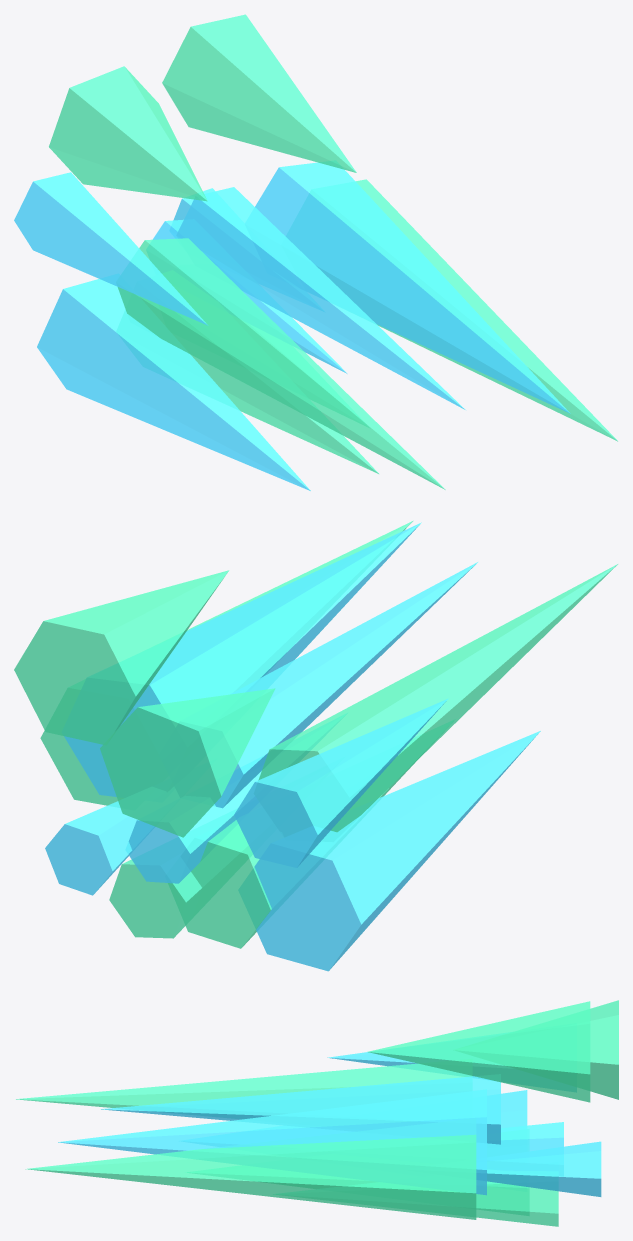
The model's file is 12_Broken_Crystal_Field.glb.
3 views of the same model, one above another, from view 1: azimuth 30°, elevation 25°; view 2: azimuth 150°, elevation 25°; view 3: azimuth 270°, elevation 25° (orthographic). The views are drawn at different scales.
Parts seen in each view (by area): view 1: 12_Broken_Crystal_Field_01, 12_Broken_Crystal_Field_07, 12_Broken_Crystal_Field_06, 12_Broken_Crystal_Field_03, 12_Broken_Crystal_Field_02, 12_Broken_Crystal_Field_04, 12_Broken_Crystal_Field_05, 12_Broken_Crystal_Field_00, 12_Broken_Crystal_Field_09, 12_Broken_Crystal_Field_08; view 2: 12_Broken_Crystal_Field_01, 12_Broken_Crystal_Field_07, 12_Broken_Crystal_Field_03, 12_Broken_Crystal_Field_02, 12_Broken_Crystal_Field_06, 12_Broken_Crystal_Field_04, 12_Broken_Crystal_Field_05, 12_Broken_Crystal_Field_09, 12_Broken_Crystal_Field_08, 12_Broken_Crystal_Field_11, 12_Broken_Crystal_Field_10, 12_Broken_Crystal_Field_00; view 3: 12_Broken_Crystal_Field_01, 12_Broken_Crystal_Field_00, 12_Broken_Crystal_Field_02, 12_Broken_Crystal_Field_03, 12_Broken_Crystal_Field_06, 12_Broken_Crystal_Field_11, 12_Broken_Crystal_Field_05, 12_Broken_Crystal_Field_10, 12_Broken_Crystal_Field_04, 12_Broken_Crystal_Field_09, 12_Broken_Crystal_Field_07.
Part boxes in pixels (x1,y1,x2,y2): 12_Broken_Crystal_Field_01: [255, 161, 570, 413]; 12_Broken_Crystal_Field_07: [37, 279, 310, 490]; 12_Broken_Crystal_Field_06: [117, 238, 445, 489]; 12_Broken_Crystal_Field_03: [176, 187, 465, 409]; 12_Broken_Crystal_Field_02: [162, 14, 356, 172]; 12_Broken_Crystal_Field_04: [49, 66, 207, 201]; 12_Broken_Crystal_Field_05: [14, 172, 208, 325]; 12_Broken_Crystal_Field_00: [355, 179, 617, 441]; 12_Broken_Crystal_Field_09: [147, 219, 347, 373]; 12_Broken_Crystal_Field_08: [190, 354, 378, 473]; 12_Broken_Crystal_Field_01: [62, 522, 421, 797]; 12_Broken_Crystal_Field_07: [239, 731, 540, 971]; 12_Broken_Crystal_Field_03: [160, 562, 477, 808]; 12_Broken_Crystal_Field_02: [14, 570, 229, 744]; 12_Broken_Crystal_Field_06: [258, 564, 617, 832]; 12_Broken_Crystal_Field_04: [100, 688, 275, 837]; 12_Broken_Crystal_Field_05: [234, 698, 448, 867]; 12_Broken_Crystal_Field_09: [128, 714, 345, 883]; 12_Broken_Crystal_Field_08: [185, 763, 414, 948]; 12_Broken_Crystal_Field_11: [45, 787, 178, 895]; 12_Broken_Crystal_Field_10: [109, 859, 202, 938]; 12_Broken_Crystal_Field_00: [40, 520, 413, 805]; 12_Broken_Crystal_Field_01: [58, 1089, 486, 1195]; 12_Broken_Crystal_Field_00: [25, 1134, 476, 1219]; 12_Broken_Crystal_Field_02: [367, 1001, 590, 1102]; 12_Broken_Crystal_Field_03: [101, 1074, 500, 1144]; 12_Broken_Crystal_Field_06: [16, 1063, 472, 1107]; 12_Broken_Crystal_Field_11: [487, 1141, 601, 1196]; 12_Broken_Crystal_Field_05: [327, 1033, 576, 1091]; 12_Broken_Crystal_Field_10: [476, 1181, 558, 1226]; 12_Broken_Crystal_Field_04: [590, 1000, 618, 1099]; 12_Broken_Crystal_Field_09: [487, 1122, 563, 1157]; 12_Broken_Crystal_Field_07: [501, 1090, 527, 1128].
Bounding box in the file's own units: 2.94 × 2.56 × 5.99.
